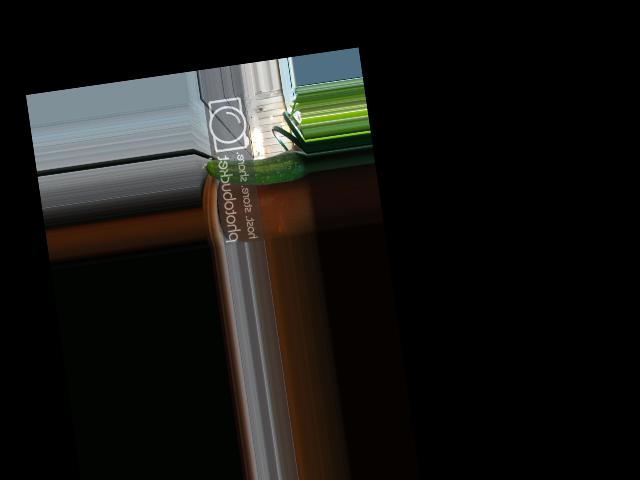cucumber: (200, 146, 309, 193)
